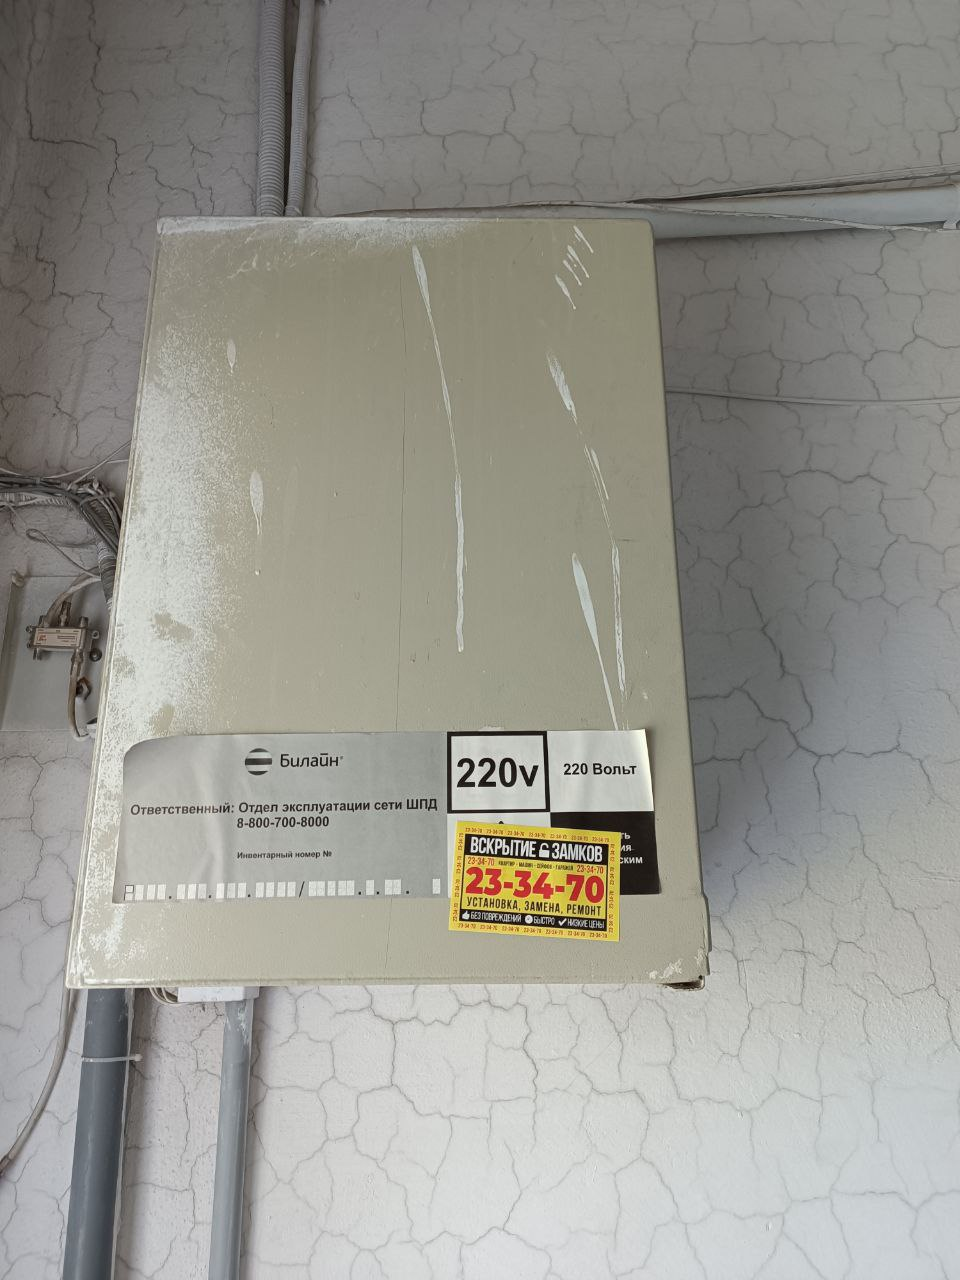sv-5: (57, 204, 722, 1001)
